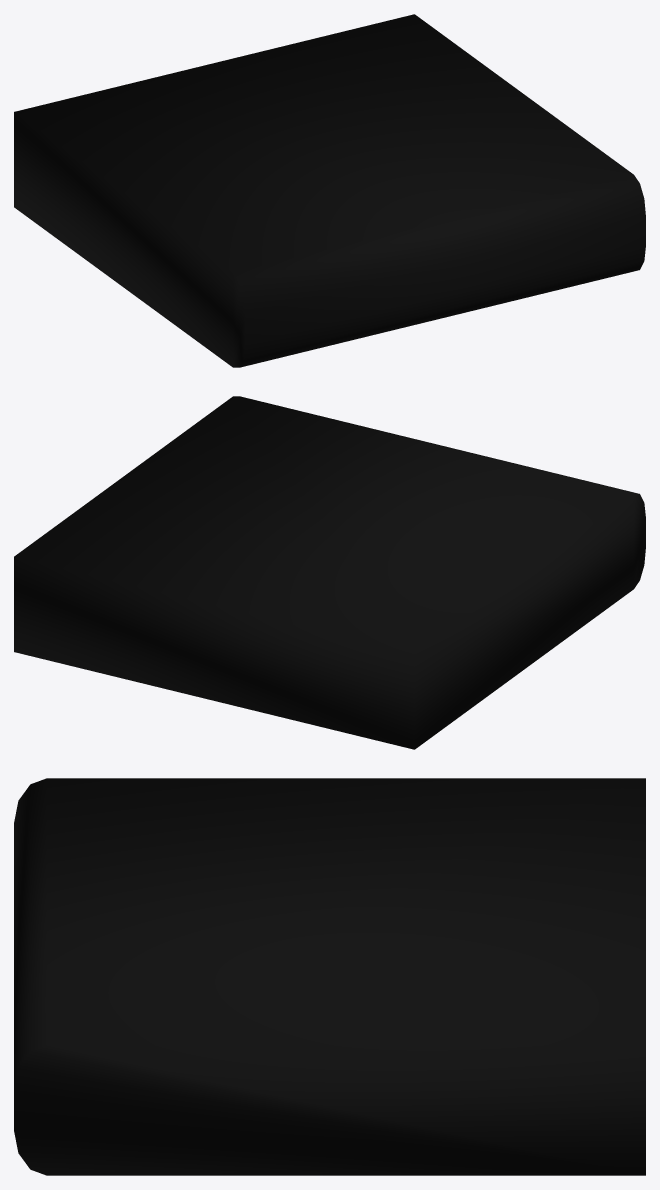
Rendered from Handtuch02.fbx.
3 views of the same model, one above another, from view 1: azimuth 30°, elevation 25°; view 2: azimuth 150°, elevation 25°; view 3: azimuth 270°, elevation 25° (orthographic). The views are drawn at different scales.
Parts seen in each view (by area): view 1: Cube; view 2: Cube; view 3: Cube.
Part boxes in pixels (box(x1,y1,x2,y2)): Cube: box(14, 14, 645, 367); Cube: box(14, 396, 645, 749); Cube: box(14, 778, 645, 1175).
Size of the model in its own units: 76.76 by 17.45 by 76.76.
